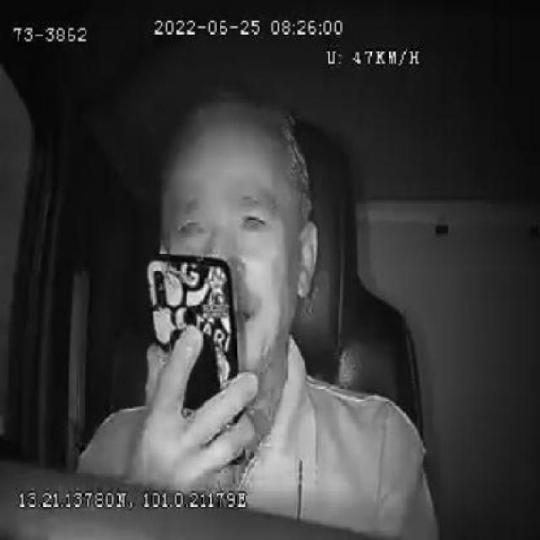phone: (148, 259, 234, 466)
